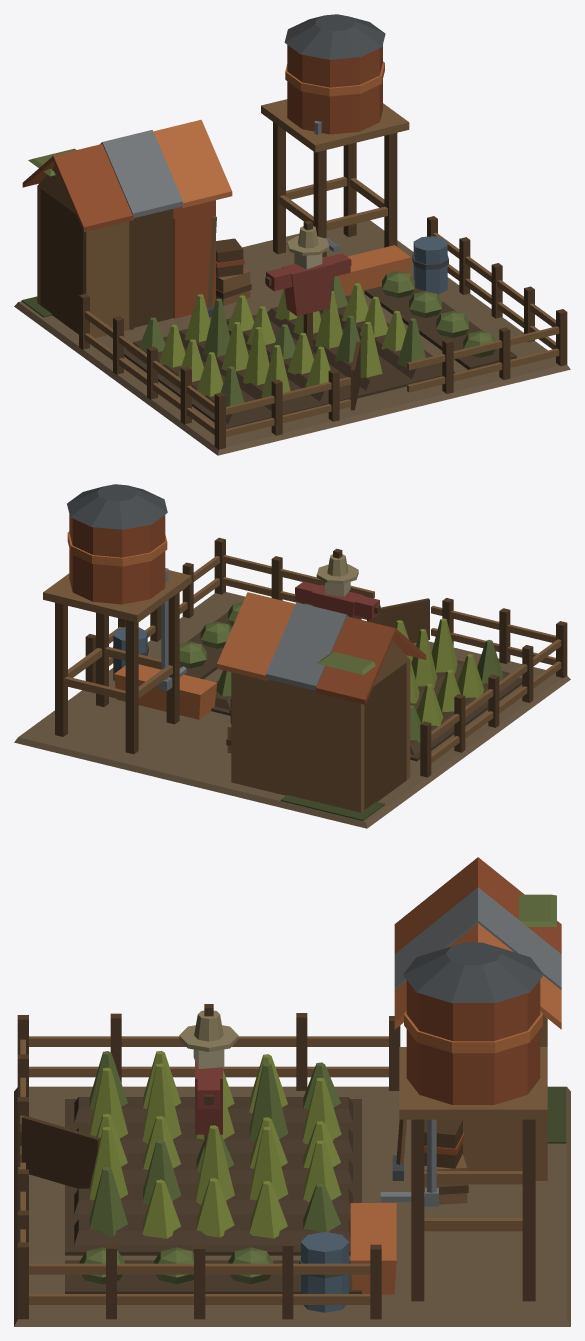
File: farm_l1.glb
3 renders of one model, top to bottom at view 1: azimuth 30°, elevation 25°; view 2: azimuth 150°, elevation 25°; view 3: azimuth 270°, elevation 25°, orthographic. The views are drawn at different scales.
Visible parts, largest first — view 1: farm_props, farm_structure, farm_roof; view 2: farm_structure, farm_props, farm_roof; view 3: farm_props, farm_structure, farm_roof.
Boxes of the visible parts, x1,y1,x2,y2 form: farm_props: [79, 14, 567, 449]; farm_structure: [14, 99, 570, 455]; farm_roof: [22, 119, 232, 232]; farm_structure: [14, 570, 570, 828]; farm_props: [67, 484, 567, 777]; farm_roof: [217, 592, 426, 704]; farm_props: [17, 942, 543, 1319]; farm_structure: [14, 1015, 570, 1326]; farm_roof: [394, 857, 561, 1029].
Bounding box in the file's own units: 6 × 3.9 × 6.
